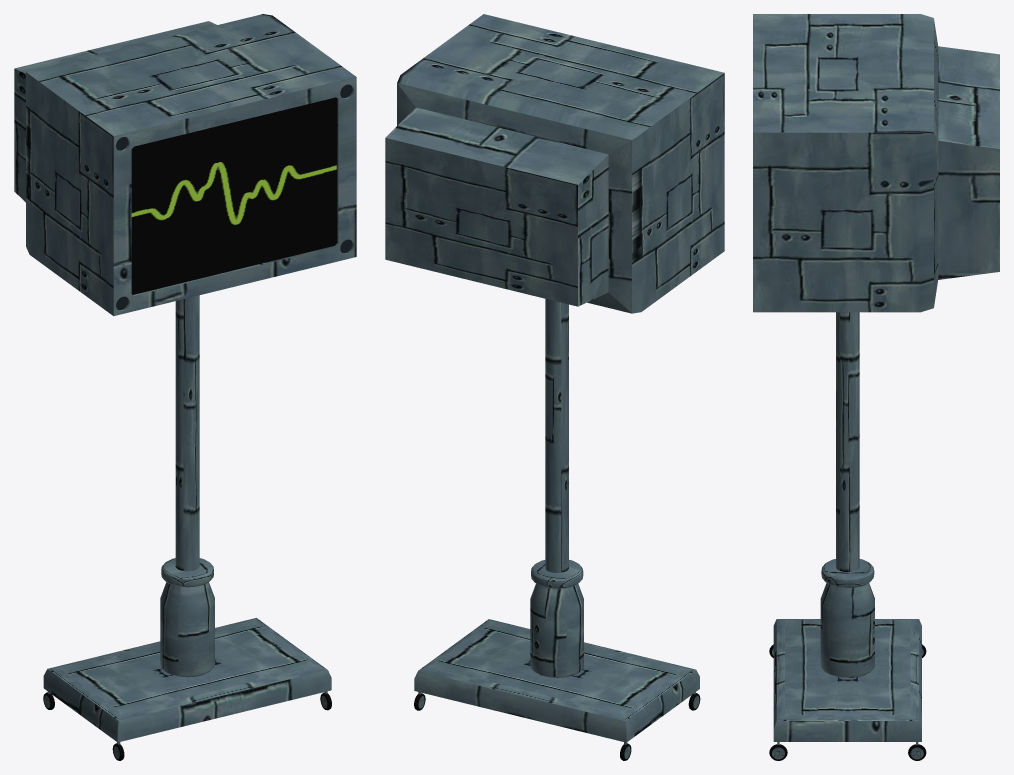
File: Karen.obj
3 renders of one model, left to right at view 1: azimuth 30°, elevation 25°; view 2: azimuth 150°, elevation 25°; view 3: azimuth 270°, elevation 25°, orthographic.
Visible parts, largest first — view 1: Karen_Mesh.001; view 2: Karen_Mesh.001; view 3: Karen_Mesh.001.
Part boxes in pixels (left/top/right/bottom): Karen_Mesh.001: left=14, top=14, right=356, bottom=760; Karen_Mesh.001: left=385, top=14, right=724, bottom=760; Karen_Mesh.001: left=753, top=14, right=999, bottom=760.
Size of the model in its own units: 2.88 by 7.23 by 2.54.
